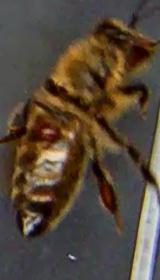varroa_mite: (25, 112, 67, 156)
